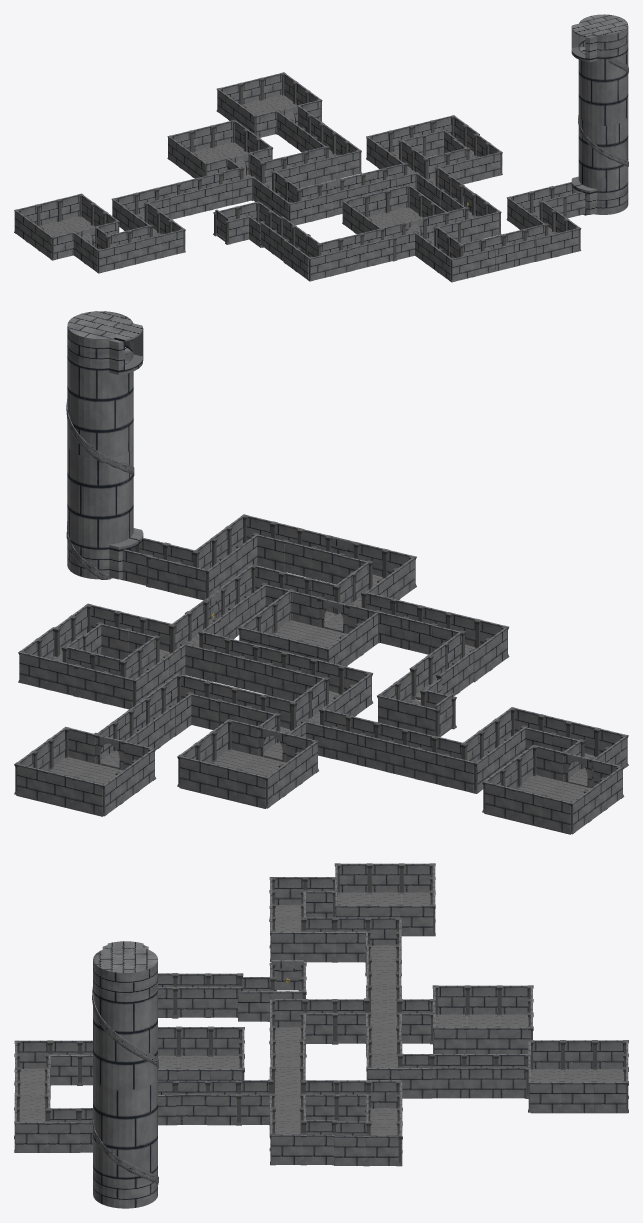
File: gang.fbx
3 views of the same model, one above another, from view 1: azimuth 30°, elevation 25°; view 2: azimuth 150°, elevation 25°; view 3: azimuth 270°, elevation 25° (orthographic). The views are drawn at different scales.
Parts seen in each view (by area): view 1: wall.102, floor.047, floor.003, floor.025, floor.018; view 2: wall.102, floor.003, floor.025, floor.018, floor.047; view 3: wall.102, floor.018, floor.025, floor.003, floor.047, floor.035, floor.004.
Part boxes in pixels (x1,y1,x2,y2): wall.102: (14, 14, 628, 282); floor.047: (368, 207, 422, 235); floor.003: (193, 142, 247, 175); floor.025: (40, 216, 94, 244); floor.018: (243, 95, 297, 122); wall.102: (14, 311, 628, 834); floor.003: (179, 749, 285, 808); floor.025: (484, 775, 590, 834); floor.018: (16, 757, 122, 816); floor.047: (273, 620, 346, 647); wall.102: (14, 863, 628, 1208); floor.018: (531, 1069, 627, 1113); floor.025: (338, 892, 430, 936); floor.003: (435, 1014, 528, 1027); floor.047: (158, 1055, 239, 1068); floor.035: (370, 1108, 397, 1135); floor.004: (370, 945, 396, 972).
Bounding box in the file's own units: 4593 × 1621 × 3781.
